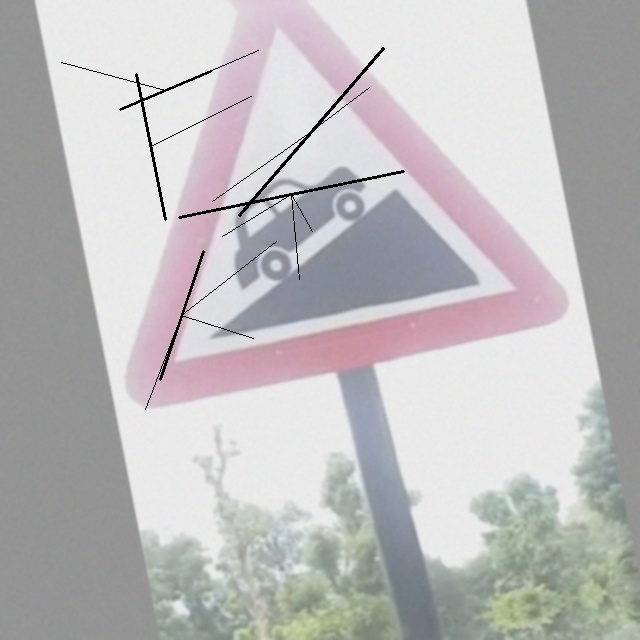Steep_Ascent: (107, 12, 529, 390)
